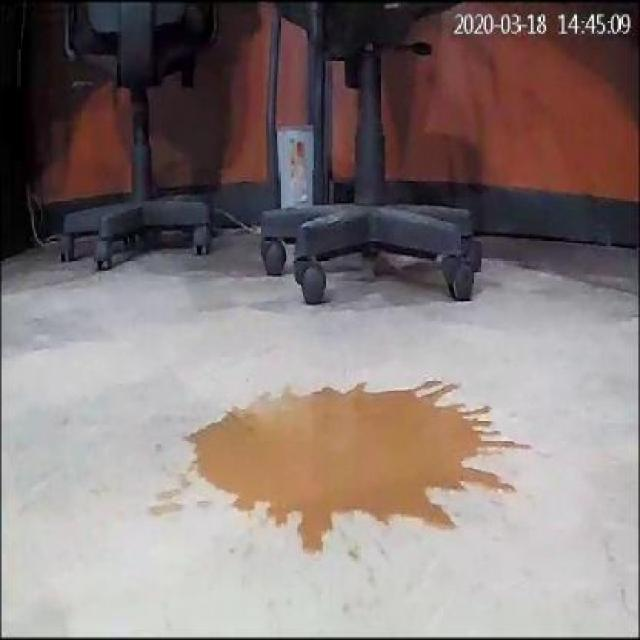spill: (190, 376, 535, 562)
